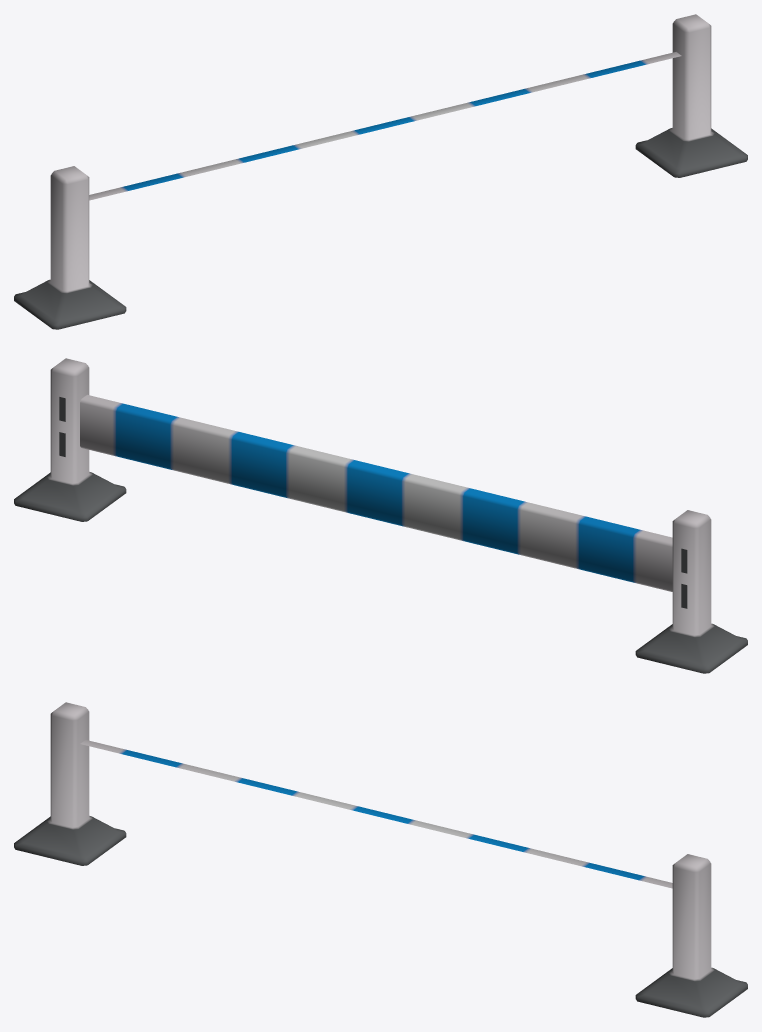
Rendered from RoadWorksBarrierLow.glb.
3 views of the same model, one above another, from view 1: azimuth 30°, elevation 25°; view 2: azimuth 150°, elevation 25°; view 3: azimuth 330°, elevation 25° (orthographic).
Visible parts, largest first — view 1: RoadWorksBarrierLow; view 2: RoadWorksBarrierLow; view 3: RoadWorksBarrierLow.
Boxes of the visible parts, left/top/right/bottom form: RoadWorksBarrierLow: left=14, top=14, right=747, bottom=329; RoadWorksBarrierLow: left=14, top=358, right=747, bottom=673; RoadWorksBarrierLow: left=14, top=702, right=747, bottom=1017.
Bounding box in the file's own units: 4.02 × 0.7362 × 0.4257.
